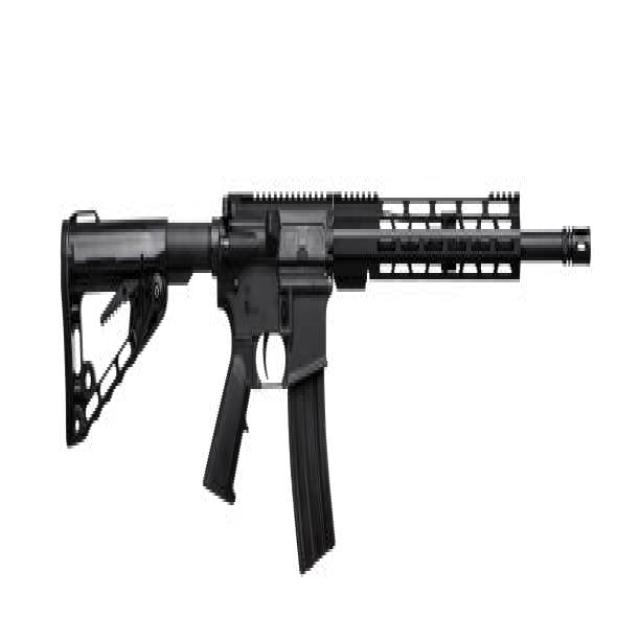rifle: (56, 165, 594, 596)
